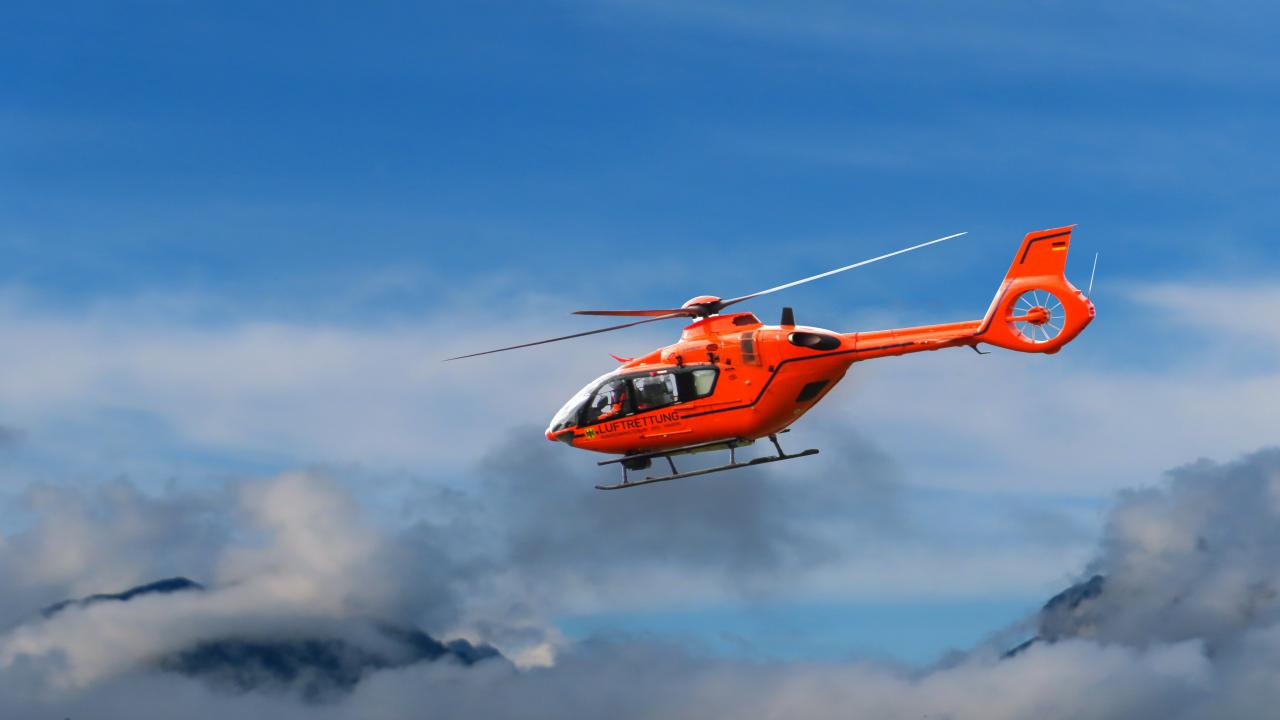Helicopter: (418, 192, 1145, 524)
